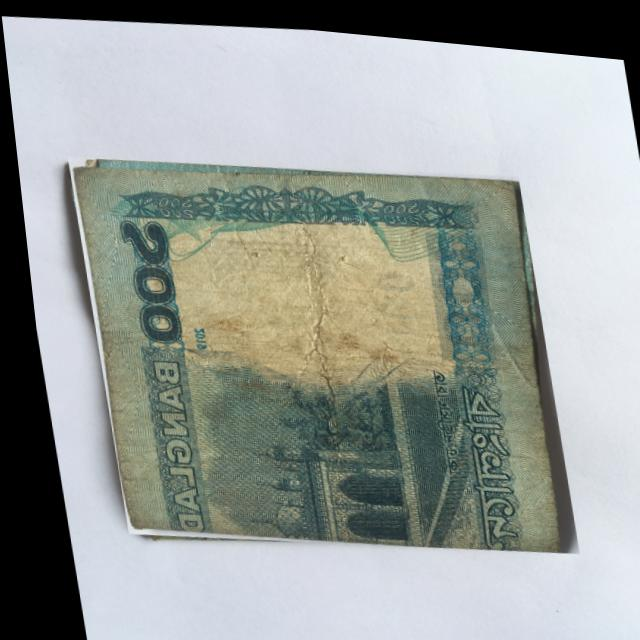Taka: (62, 132, 570, 567)
